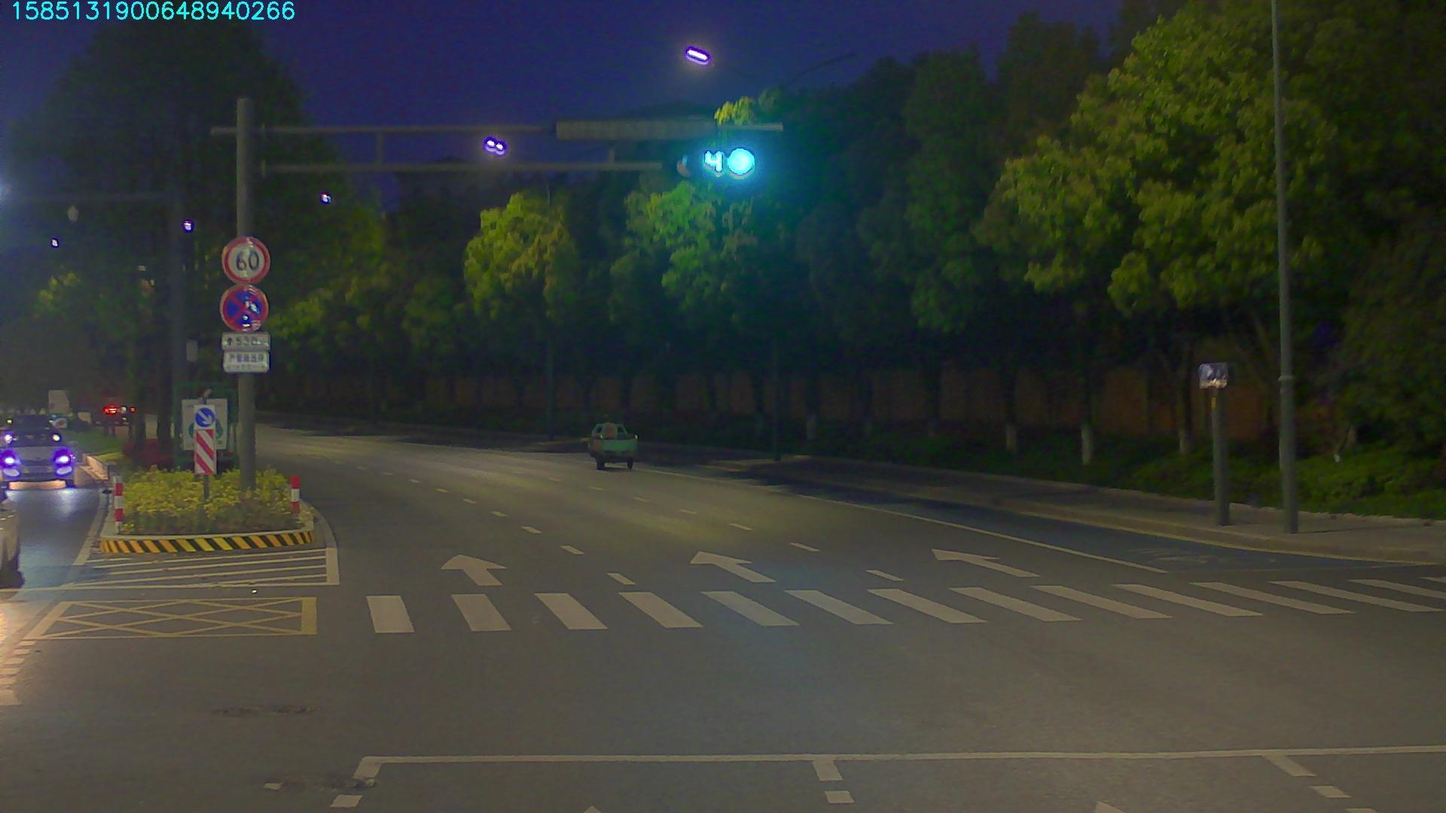green: (704, 142, 755, 180)
